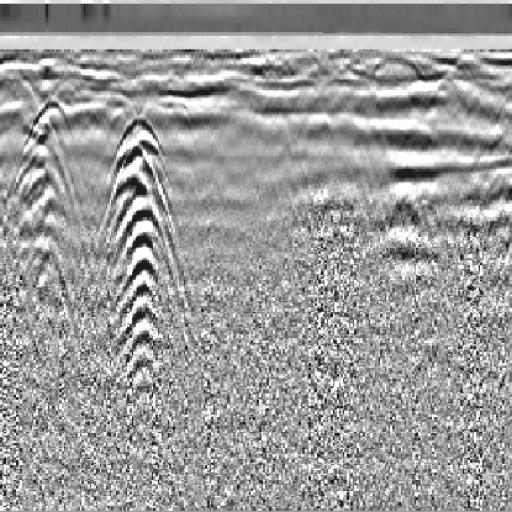non-metallic: (91, 112, 198, 387), (6, 102, 83, 299)
